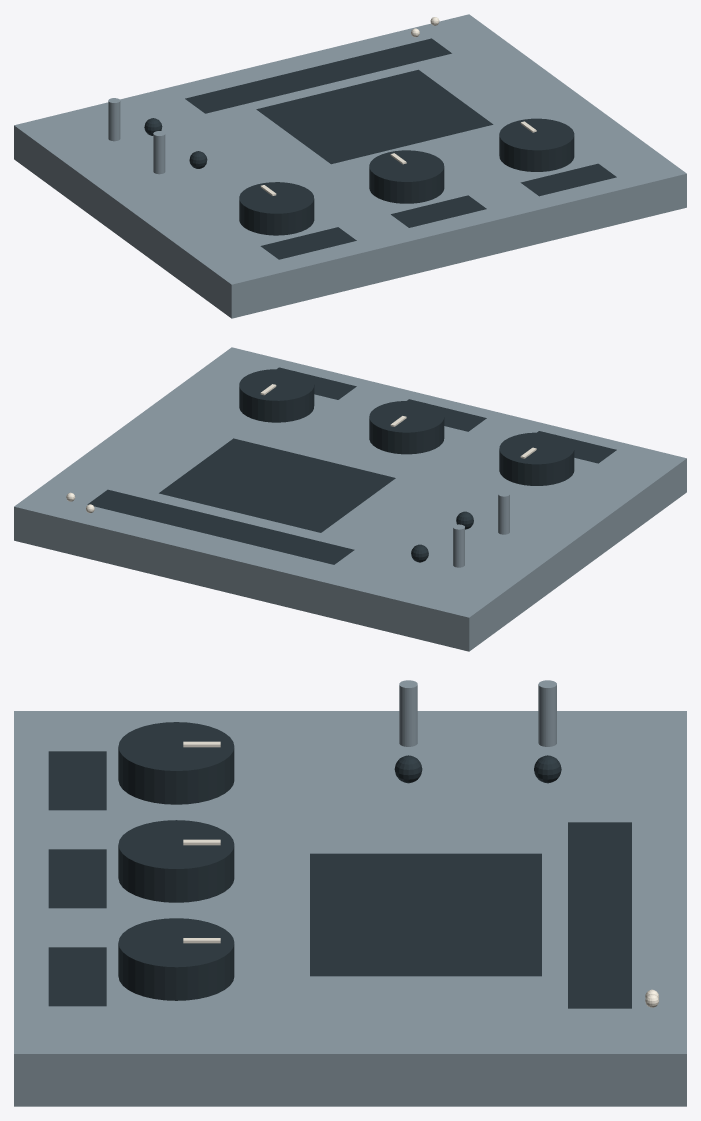
Rendered from device.glb.
3 renders of one model, top to bottom at view 1: azimuth 30°, elevation 25°; view 2: azimuth 150°, elevation 25°; view 3: azimuth 270°, elevation 25°, orthographic. The views are drawn at different scales.
Visible parts, largest first — view 1: body, broadcastCanvas, canvas_rate_main, knob10_3_cap, knob10_1_cap, knob10_2_cap, canvas_knob10_1, canvas_knob10_2, canvas_knob10_3, stem_power, stem_broadcast; view 2: body, broadcastCanvas, canvas_rate_main, knob10_1_cap, knob10_2_cap, knob10_3_cap, canvas_knob10_1, canvas_knob10_3, canvas_knob10_2, stem_broadcast, stem_power; view 3: body, broadcastCanvas, canvas_rate_main, knob10_1_cap, knob10_3_cap, knob10_2_cap, canvas_knob10_1, canvas_knob10_2, canvas_knob10_3, stem_power, stem_broadcast.
Boxes of the visible parts, x1,y1,x2,y2 form: body: (14, 14, 686, 318); broadcastCanvas: (256, 69, 493, 164); canvas_rate_main: (185, 38, 451, 113); knob10_3_cap: (499, 118, 574, 171); knob10_1_cap: (239, 182, 314, 235); knob10_2_cap: (369, 150, 444, 203); canvas_knob10_1: (260, 227, 356, 259); canvas_knob10_2: (391, 195, 486, 227); canvas_knob10_3: (520, 163, 616, 196); stem_power: (108, 98, 120, 141); stem_broadcast: (153, 131, 165, 174); body: (14, 347, 686, 651); broadcastCanvas: (159, 438, 395, 532); canvas_rate_main: (87, 489, 354, 564); knob10_1_cap: (499, 432, 574, 485); knob10_2_cap: (369, 401, 444, 454); knob10_3_cap: (239, 369, 314, 422); canvas_knob10_1: (537, 431, 616, 463); canvas_knob10_3: (277, 367, 356, 399); canvas_knob10_2: (407, 399, 486, 431); stem_broadcast: (498, 491, 509, 534); stem_power: (453, 524, 464, 567); body: (14, 711, 686, 1106); broadcastCanvas: (310, 853, 541, 976); canvas_rate_main: (568, 822, 631, 1008); knob10_1_cap: (118, 722, 234, 804); knob10_3_cap: (118, 918, 234, 1000); knob10_2_cap: (118, 820, 234, 902); canvas_knob10_1: (48, 751, 106, 810); canvas_knob10_2: (48, 849, 106, 908); canvas_knob10_3: (48, 947, 106, 1006); stem_power: (538, 680, 556, 746); stem_broadcast: (399, 680, 417, 746).
Bounding box in the file's own units: 7 × 1.15 × 5.8.
